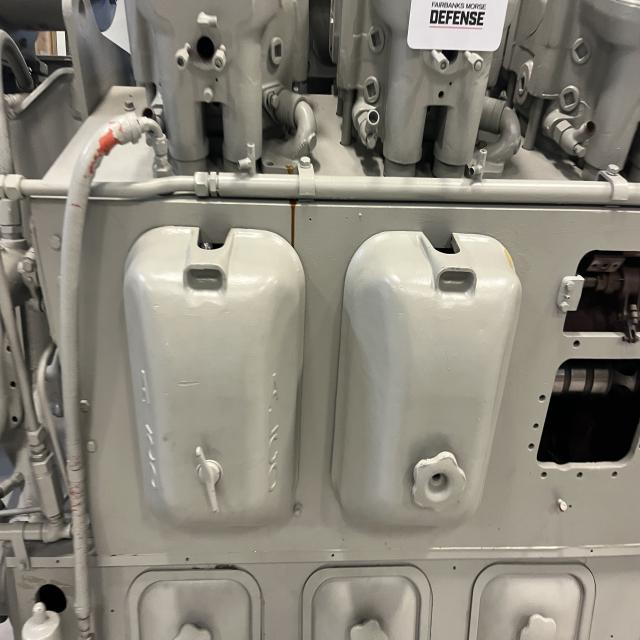Oil Leak: (290, 199, 297, 248), (285, 165, 297, 175)
